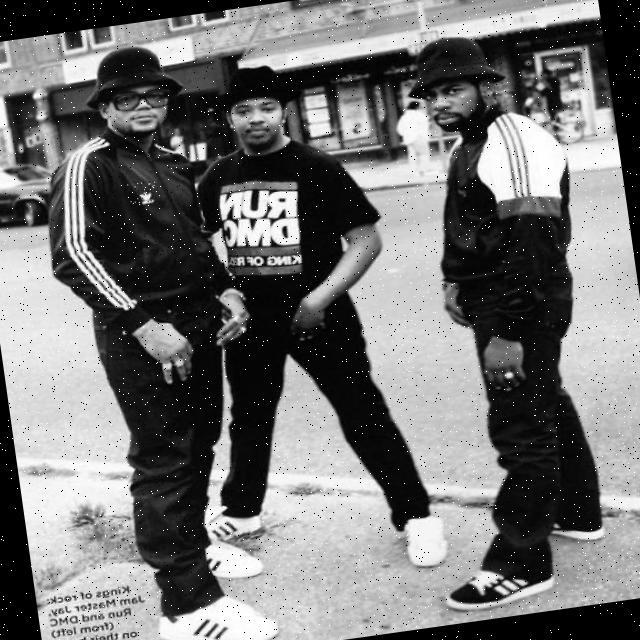Adidas: (128, 180, 163, 208)
